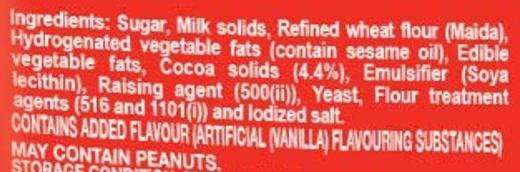ingredients: (5, 5, 516, 162)
